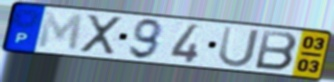4: (169, 23, 202, 64)
9: (128, 17, 166, 62)
B: (253, 29, 300, 72)
M: (36, 10, 85, 53)
U: (216, 25, 262, 69)
X: (79, 13, 124, 56)
